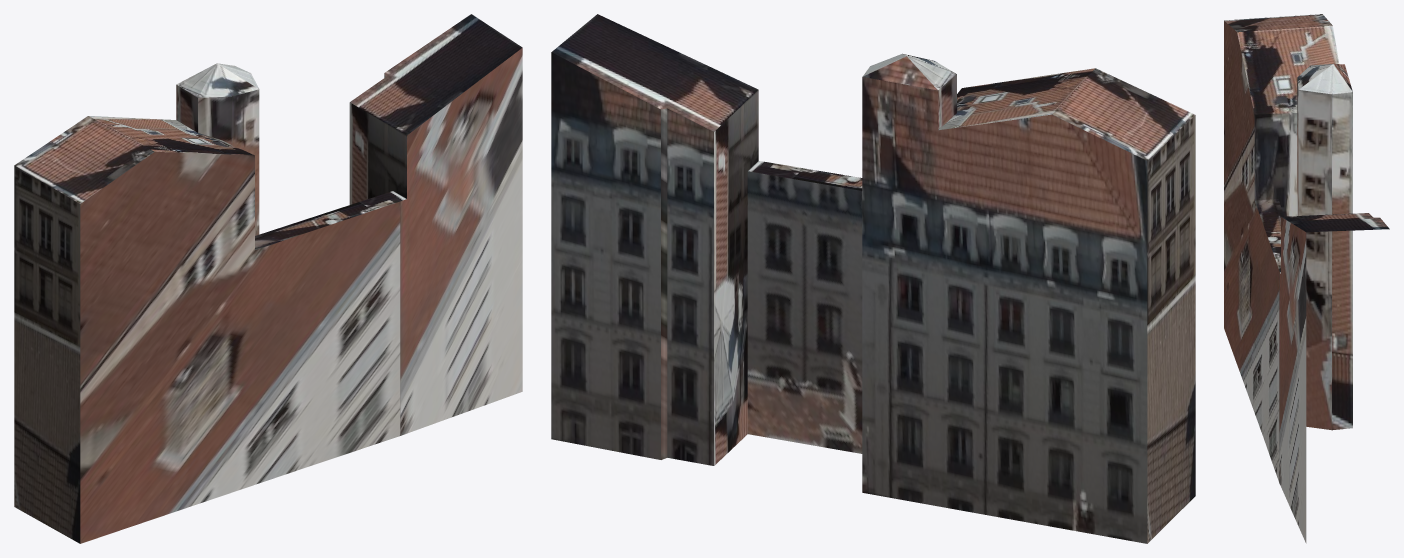
3 renders of one model, left to right at view 1: azimuth 30°, elevation 25°; view 2: azimuth 150°, elevation 25°; view 3: azimuth 270°, elevation 25°, orthographic. The views are drawn at different scales.
Parts seen in each view (by area): view 1: Z_UP; view 2: Z_UP; view 3: Z_UP.
Boxes of the visible parts, left/top/right/bottom form: Z_UP: left=14, top=14, right=522, bottom=543; Z_UP: left=551, top=14, right=1195, bottom=543; Z_UP: left=1224, top=14, right=1389, bottom=543.
Size of the model in its own units: 30.6 by 22.74 by 9.72.
2 materials, 1 textured.
